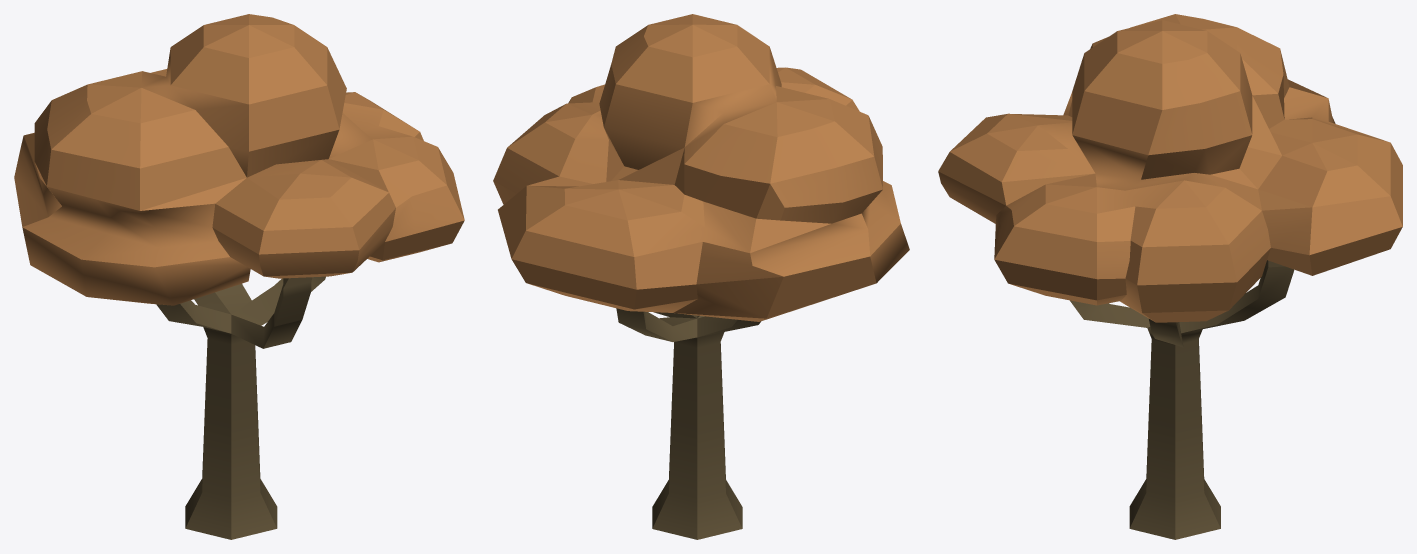
The model's file is tree_orange.fbx.
3 renders of one model, left to right at view 1: azimuth 30°, elevation 25°; view 2: azimuth 150°, elevation 25°; view 3: azimuth 270°, elevation 25°, orthographic.
Parts seen in each view (by area): view 1: tree_orange; view 2: tree_orange; view 3: tree_orange.
Boxes of the visible parts, x1,y1,x2,y2 form: tree_orange: (14, 14, 464, 539); tree_orange: (493, 14, 909, 539); tree_orange: (938, 14, 1402, 539).
Size of the model in its own units: 45.1 by 56.74 by 48.56.
